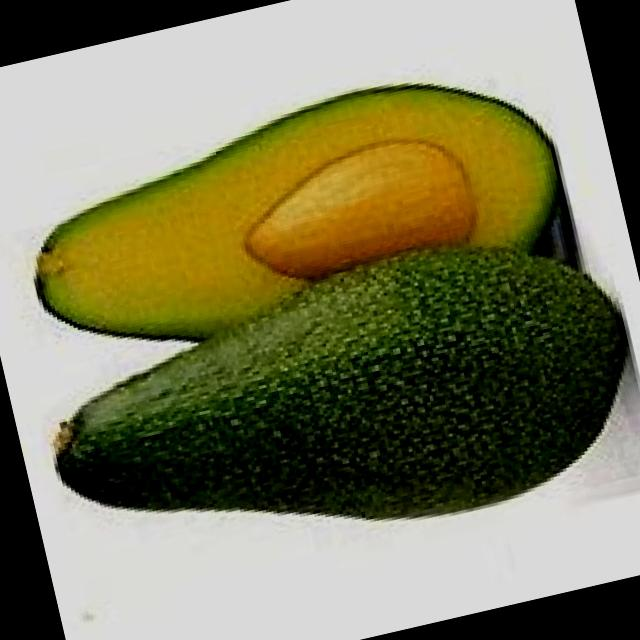avocado: (41, 219, 640, 590), (12, 35, 604, 377)
